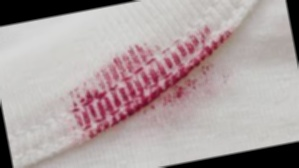lipstick: (58, 22, 248, 147)
